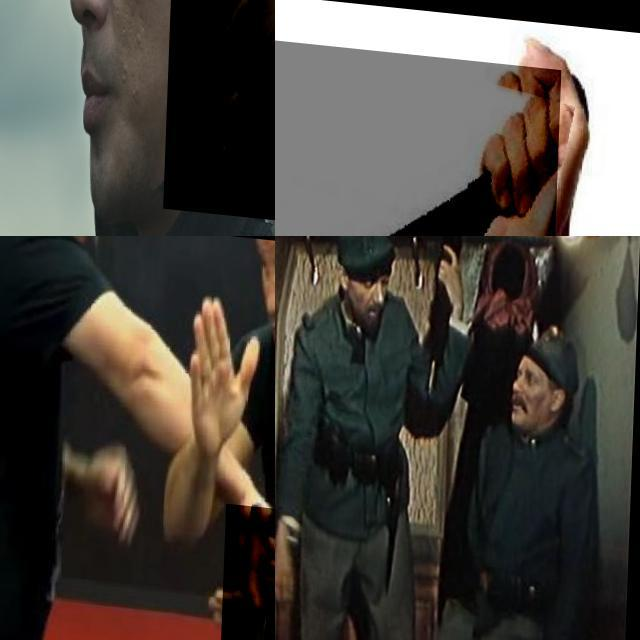-: (275, 37, 561, 236), (222, 495, 275, 640)
gun-knife-thesis - v11 Yolov5 augmented: (275, 236, 363, 640), (167, 0, 275, 215)
